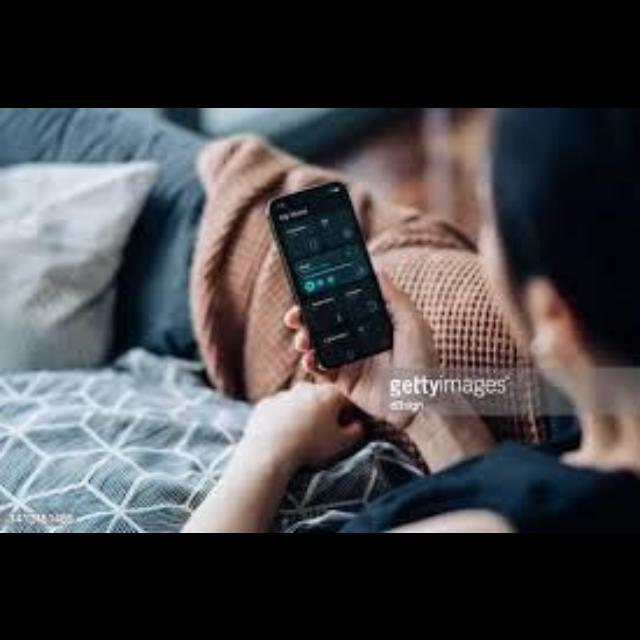phone: (264, 181, 388, 371)
